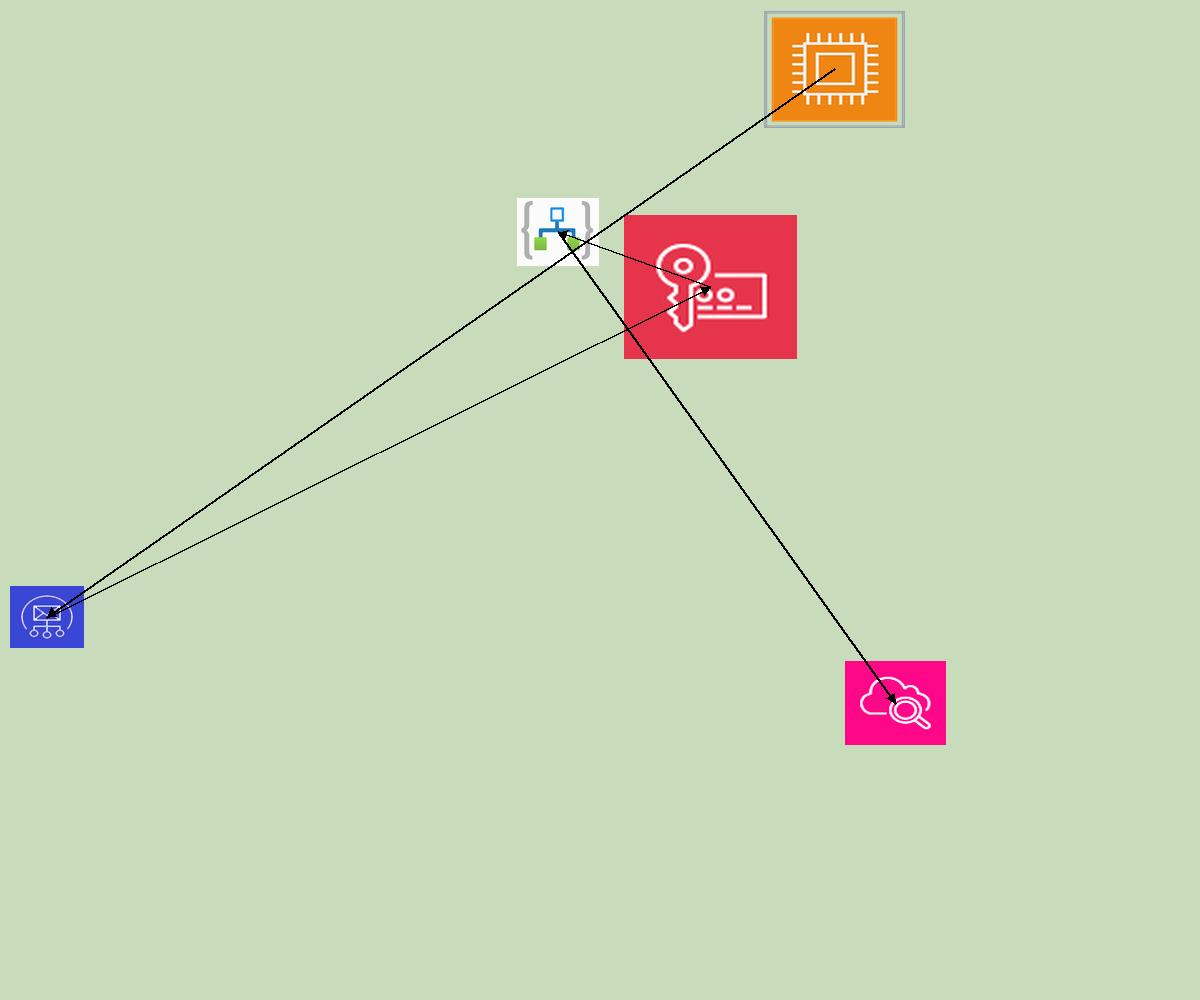AWS-Category_Compute: (764, 11, 905, 128)
AWS-CloudWatch: (845, 661, 946, 745)
AWS-Key-Management-Service: (624, 215, 797, 359)
AWS-Simple-Email-Service: (10, 586, 84, 648)
Azure_integration-204-Logic-Apps: (517, 198, 599, 266)
